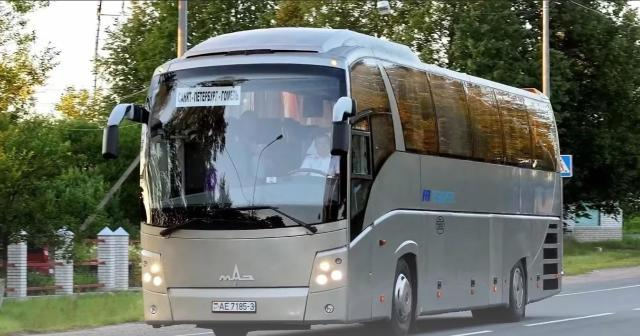bus: (91, 26, 569, 332)
